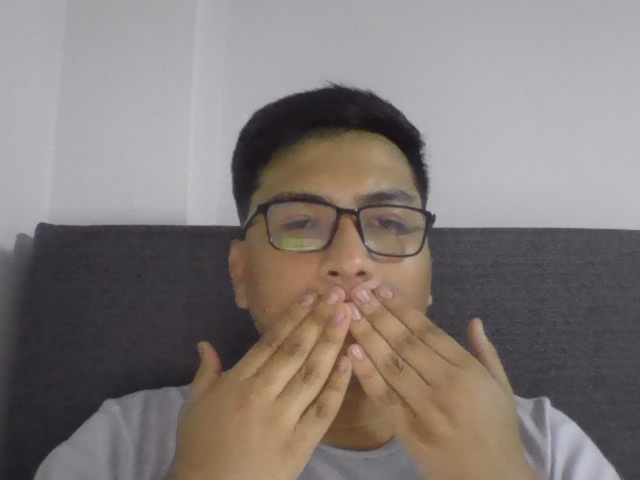Thanks: (177, 281, 544, 480)
